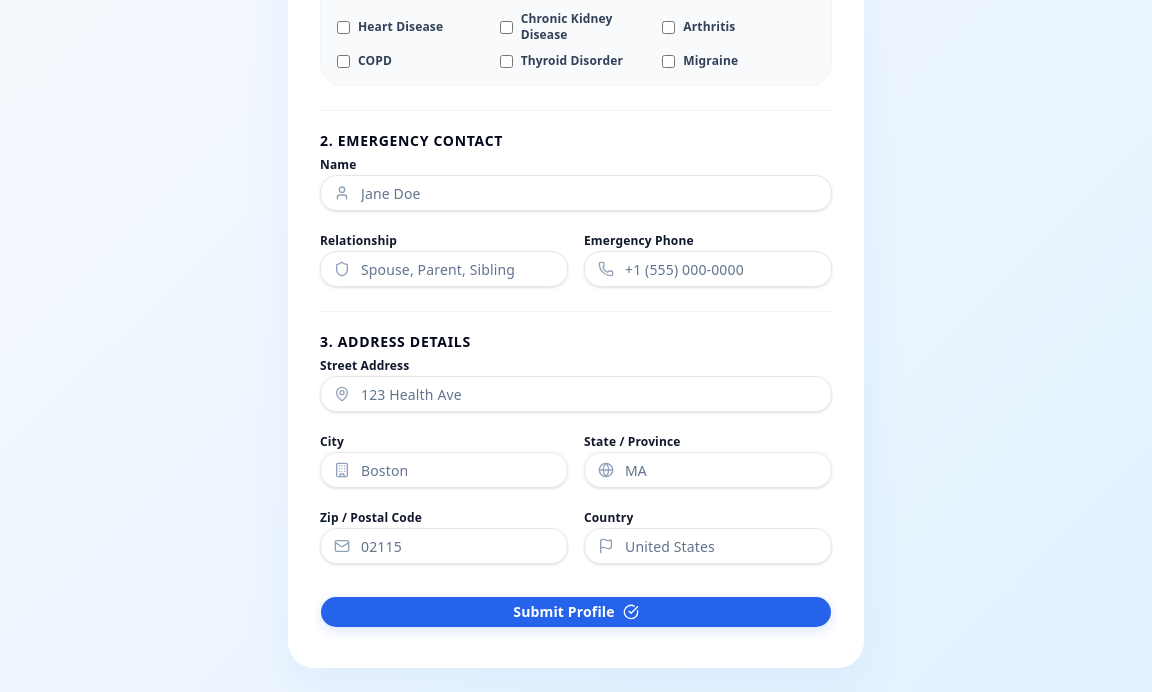
Test: Profile Setup View Form › should validate form validation errors for missing or invalid inputs (DOB)
(page scrolled)
# Attempt submit with empty fields
Click the button "Submit Profile" at (576, 612), box [320, 596, 832, 628]
(page scrolled)
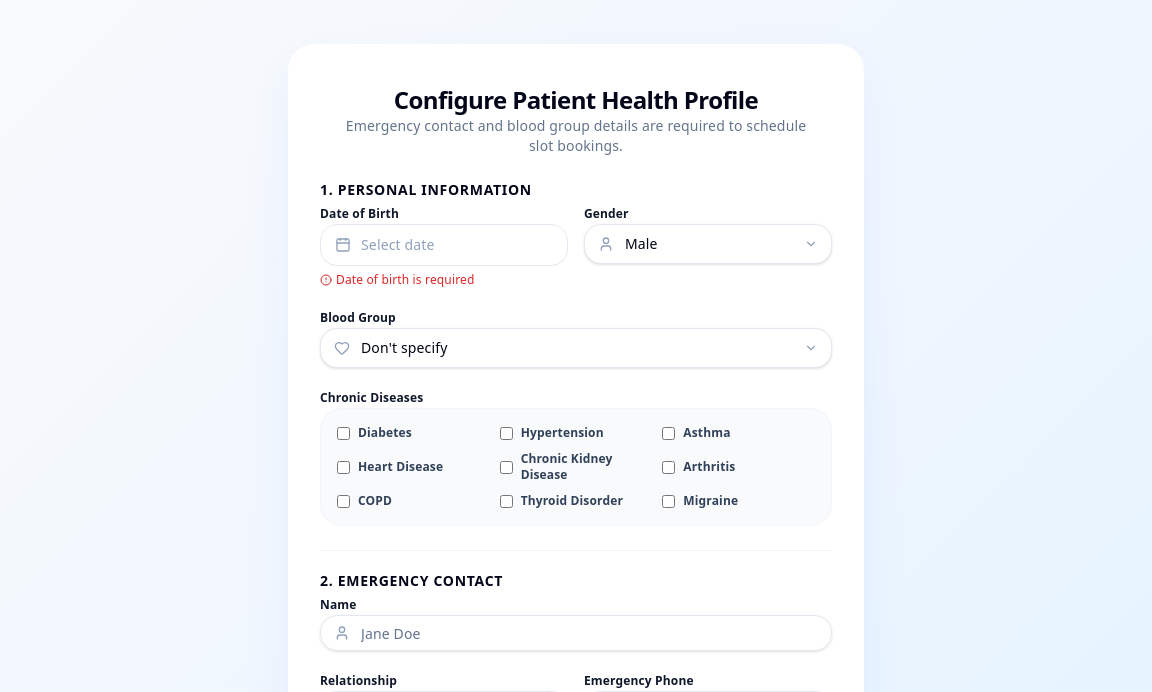
Expected: the text "Date of birth is required" is shown, [336, 272, 474, 288]
